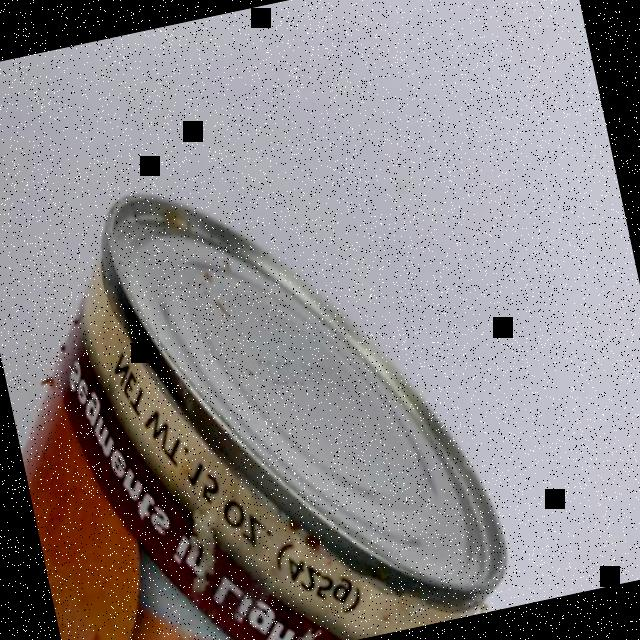can: (0, 130, 523, 640)
